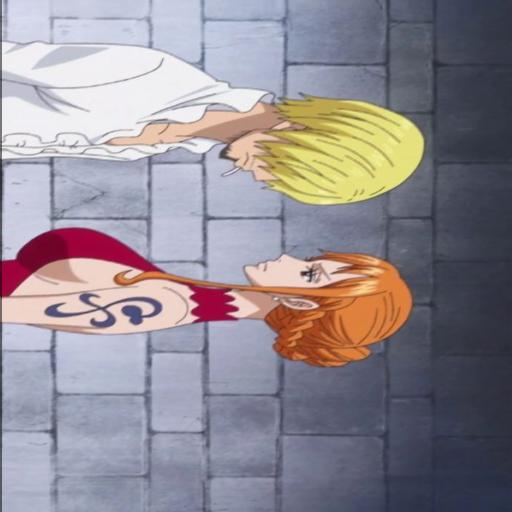Nami: (0, 223, 423, 356)
sanji: (0, 42, 453, 204)
